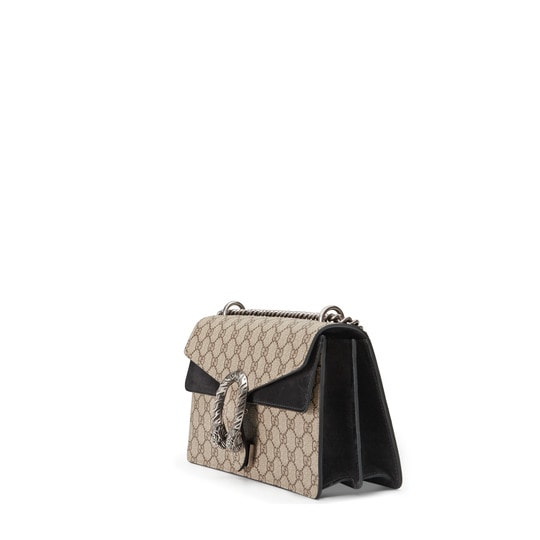Gucci: (159, 244, 405, 504), (206, 359, 263, 465), (196, 324, 318, 364)
